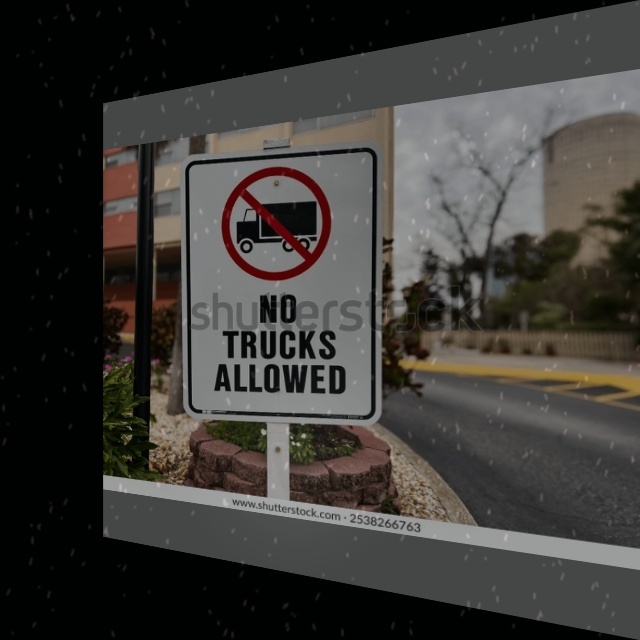Truck_Prohibited: (217, 151, 345, 289)
